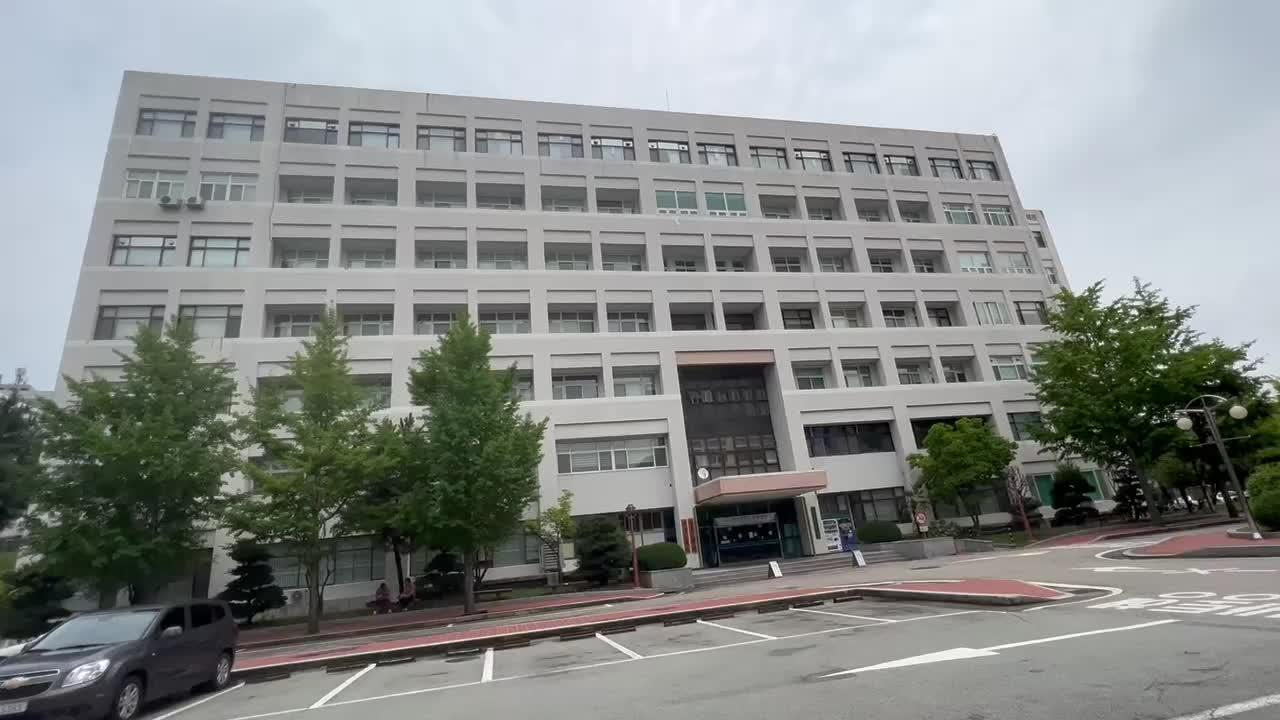building: (558, 120, 898, 577)
